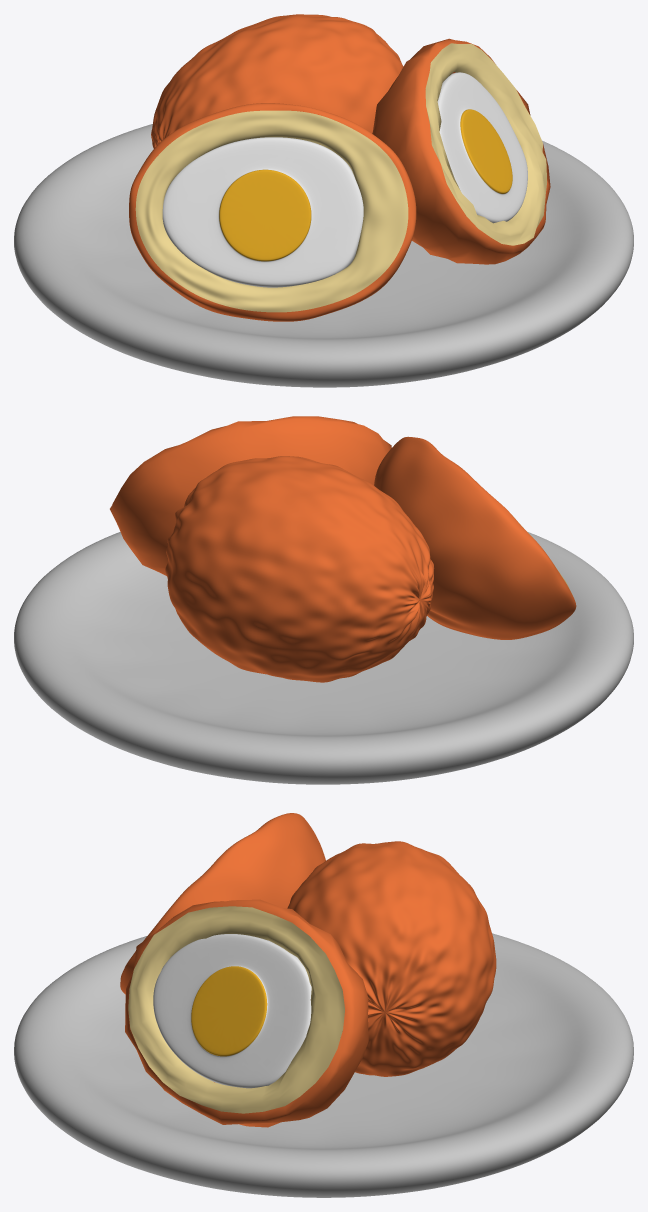
The model's file is scotch-egg-3d-icon-889546075926.glb.
3 renders of one model, top to bottom at view 1: azimuth 30°, elevation 25°; view 2: azimuth 150°, elevation 25°; view 3: azimuth 270°, elevation 25°, orthographic.
Parts seen in each view (by area): view 1: Plate, Shell, Membrane, Albumen, Yolk; view 2: Shell, Plate; view 3: Plate, Shell, Membrane, Albumen, Yolk.
Part boxes in pixels (x1,y1,x2,y2): Plate: (14, 124, 633, 387); Shell: (129, 14, 550, 321); Membrane: (135, 43, 546, 312); Albumen: (162, 72, 527, 287); Yolk: (219, 109, 512, 261); Shell: (110, 416, 576, 682); Plate: (14, 532, 633, 784); Plate: (14, 933, 633, 1197); Shell: (120, 813, 496, 1127); Membrane: (128, 906, 344, 1113); Albumen: (153, 934, 311, 1088); Yolk: (191, 966, 267, 1056).
Size of the model in its own units: 1.96 by 0.8356 by 1.96.
